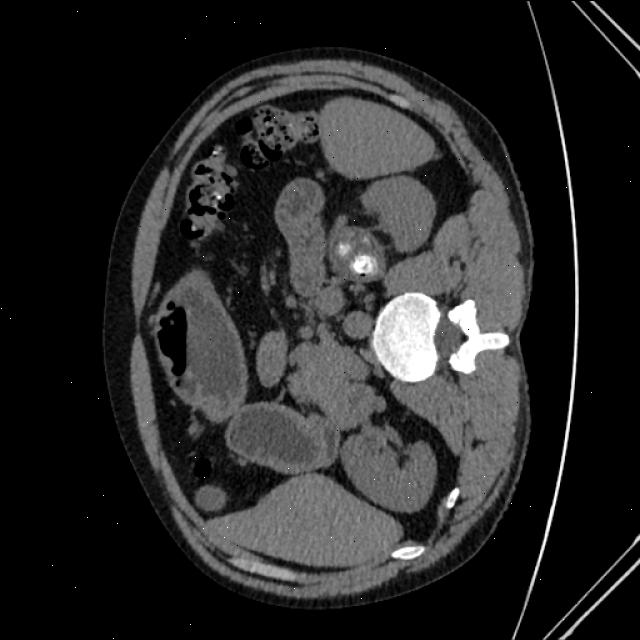kidneystone: (351, 252, 377, 275)
